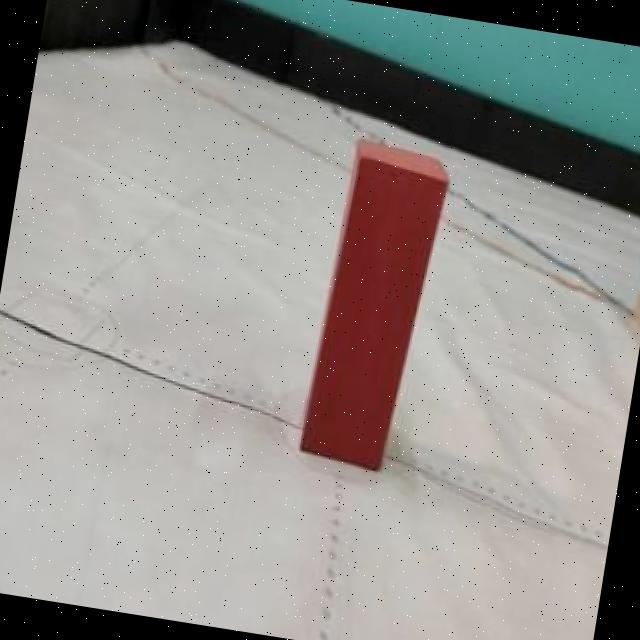redbox: (300, 134, 456, 477)
